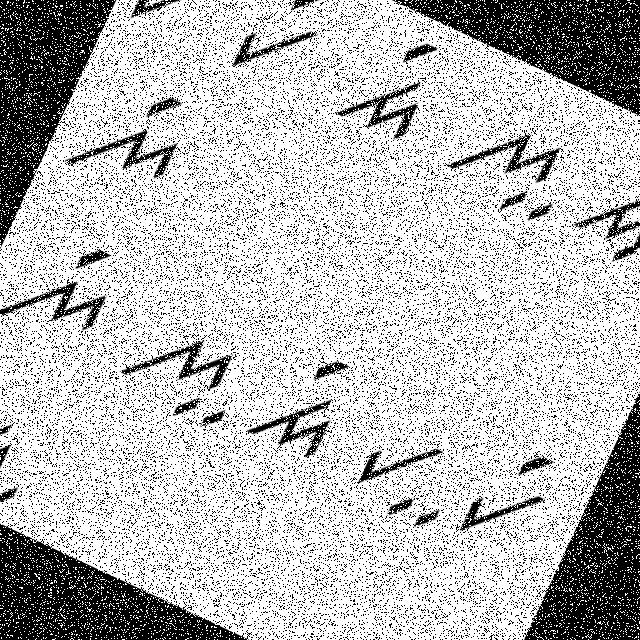dah: (557, 156, 639, 294), (0, 379, 59, 527)
dang: (326, 7, 458, 154), (240, 332, 364, 471)
nah: (429, 85, 586, 234), (107, 294, 261, 444)
nang: (58, 56, 206, 209), (0, 207, 135, 362)
pah: (332, 405, 471, 540)
pan: (127, 0, 240, 46)
pang: (452, 434, 573, 569), (220, 0, 347, 101)
